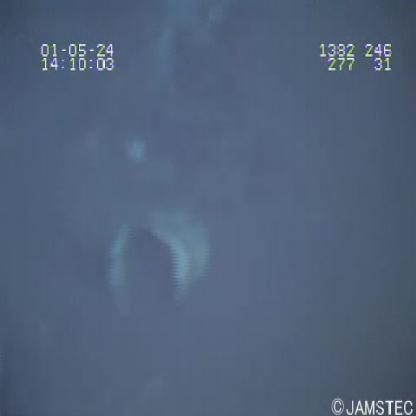Rác: (106, 198, 224, 335)
